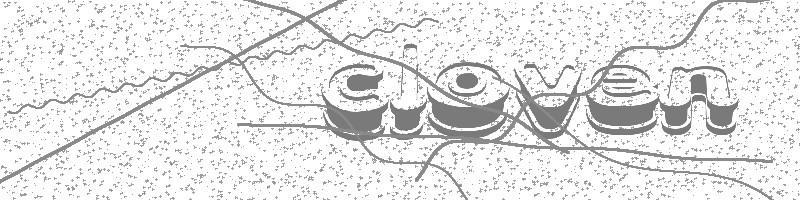c: (321, 62, 389, 142)
e: (586, 64, 659, 136)
l: (390, 42, 427, 141)
n: (661, 65, 739, 136)
o: (427, 61, 510, 139)
v: (513, 61, 583, 141)
